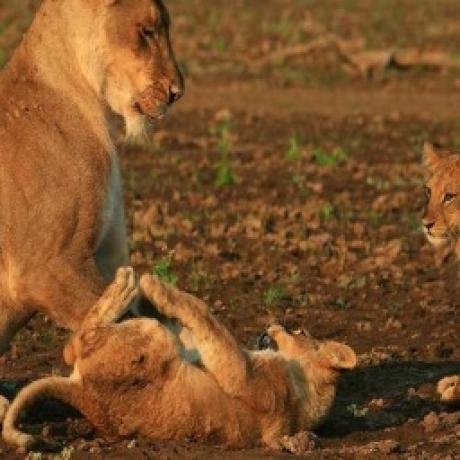Lion: (3, 266, 360, 453), (0, 0, 187, 338), (417, 135, 460, 254)
